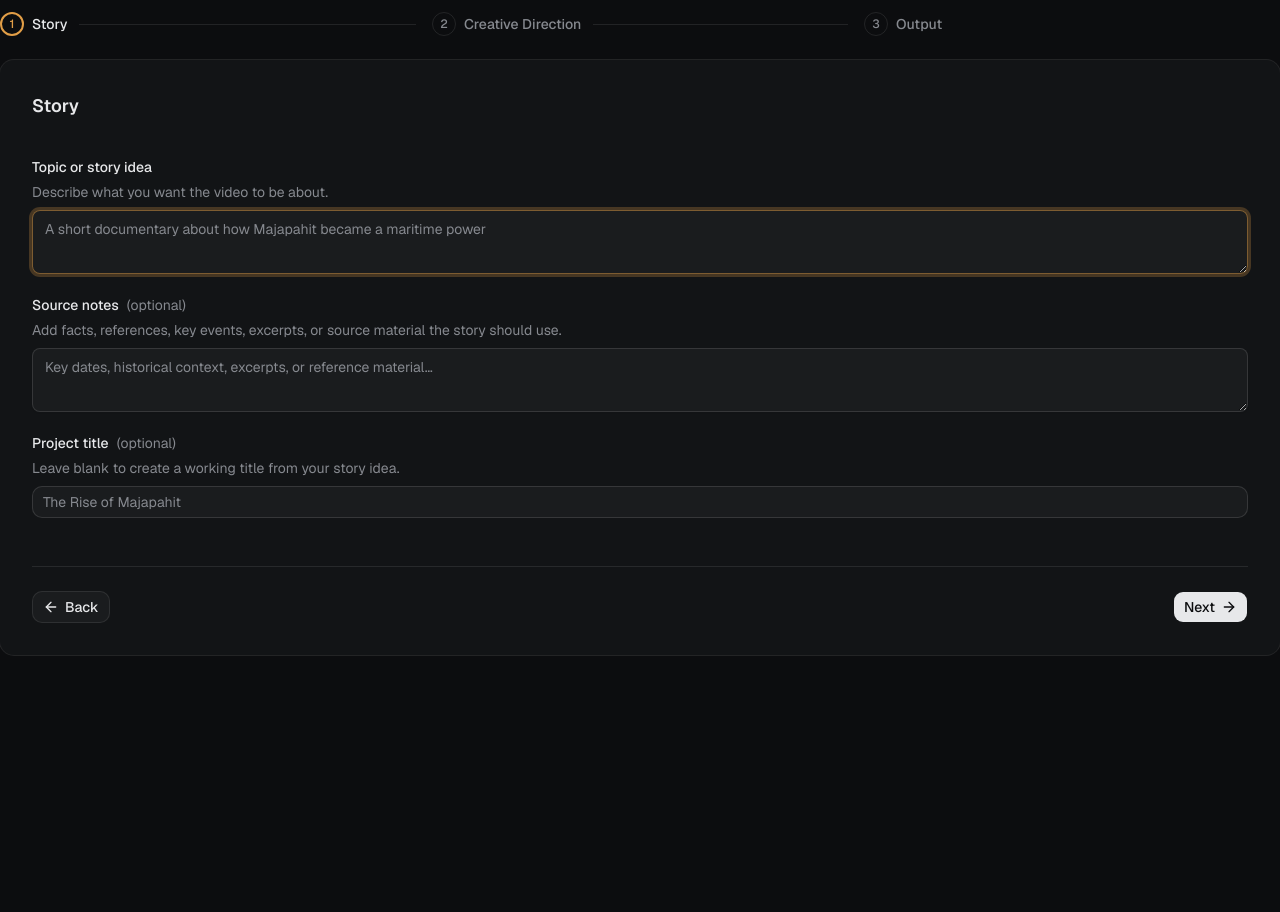
Test case: Historical VideoWizard › offers Historical audience presets and reveals Custom on demand
In the text box labelled "Topic or story idea": {"x": 640, "y": 242} [32, 210, 1248, 274], type "A documentary about Majapahit maritime power"
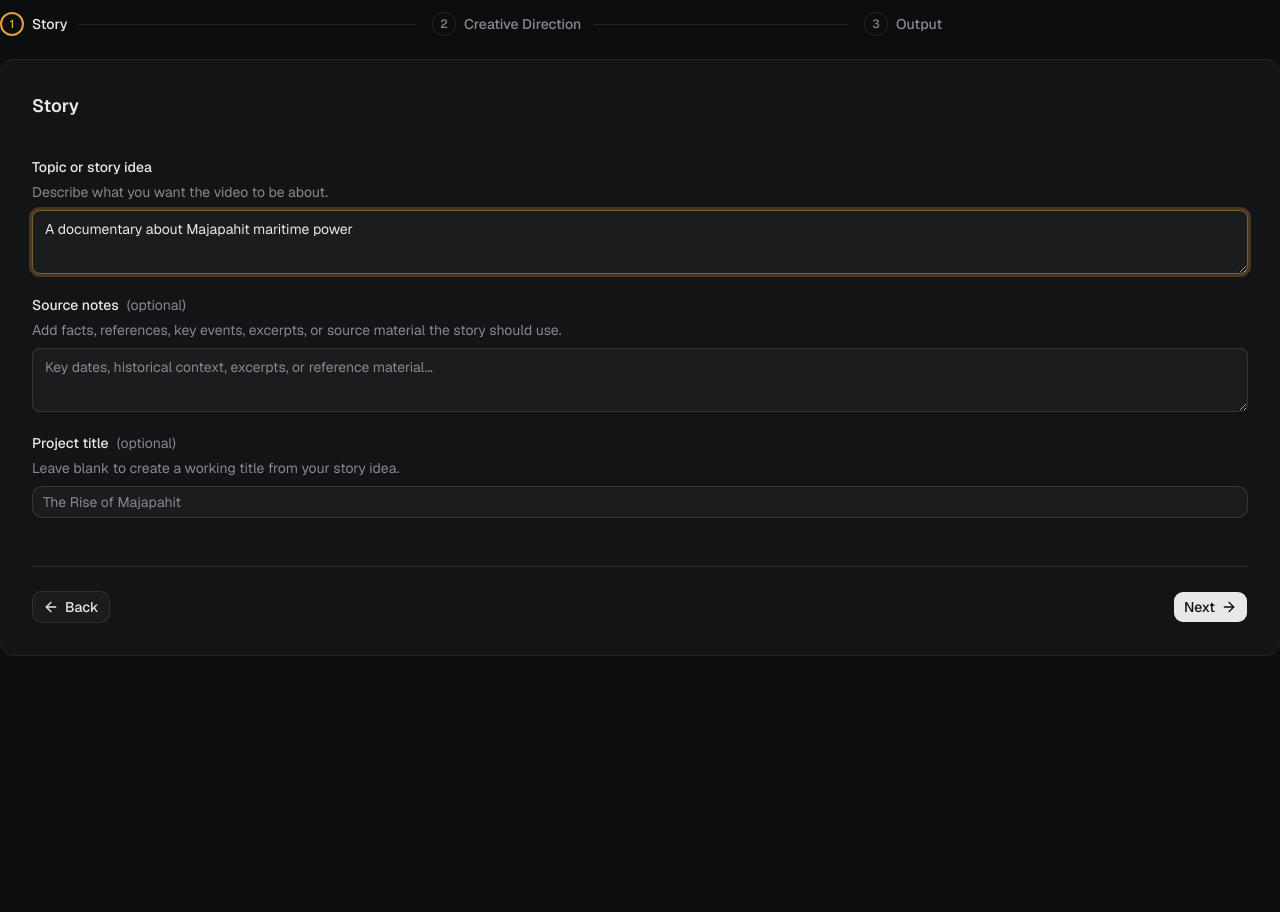
In the text box labelled "Source notes (optional)": {"x": 640, "y": 380} [32, 348, 1248, 412], type "A dated source excerpt."
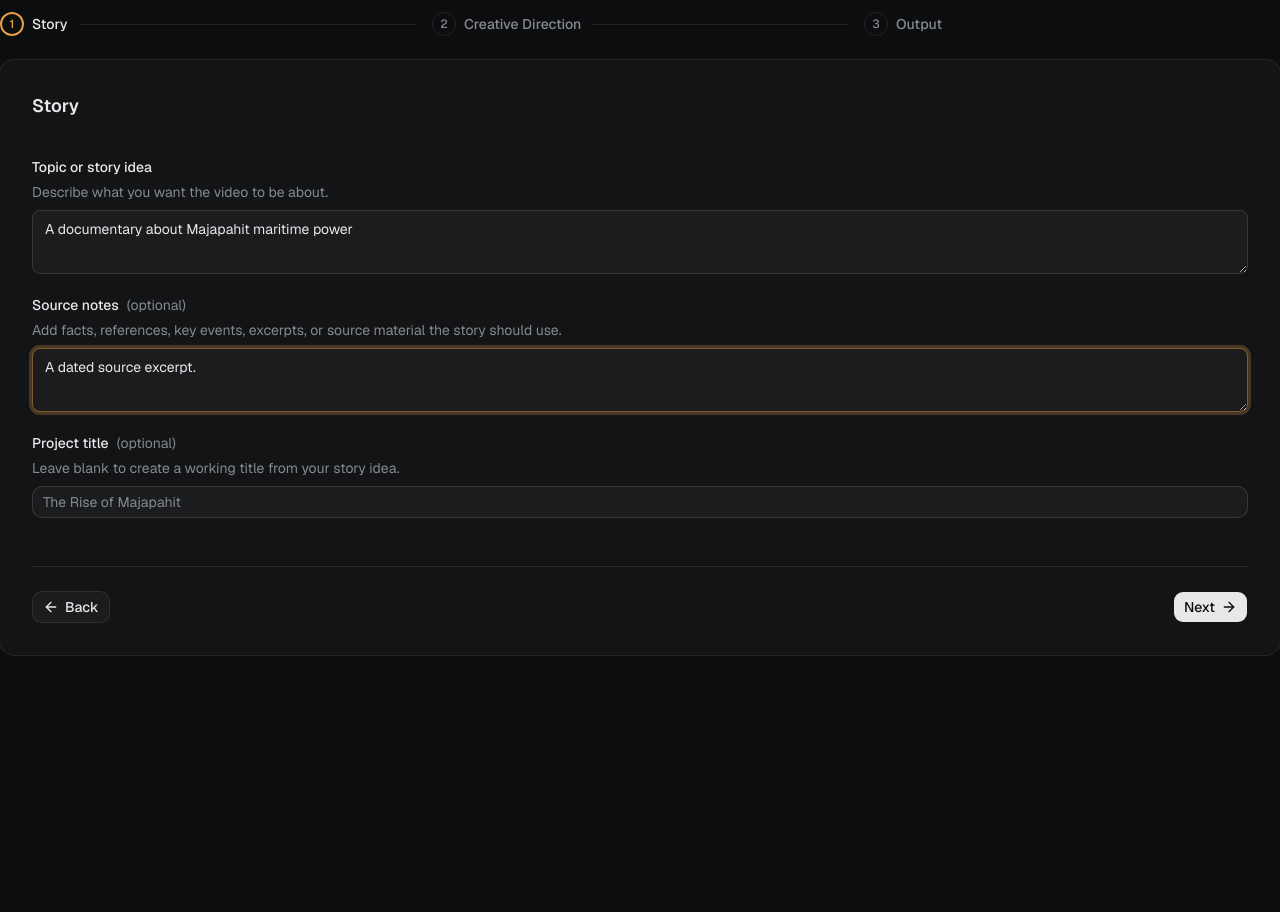
Click the button "Next": {"x": 1210, "y": 607} [1173, 591, 1248, 623]
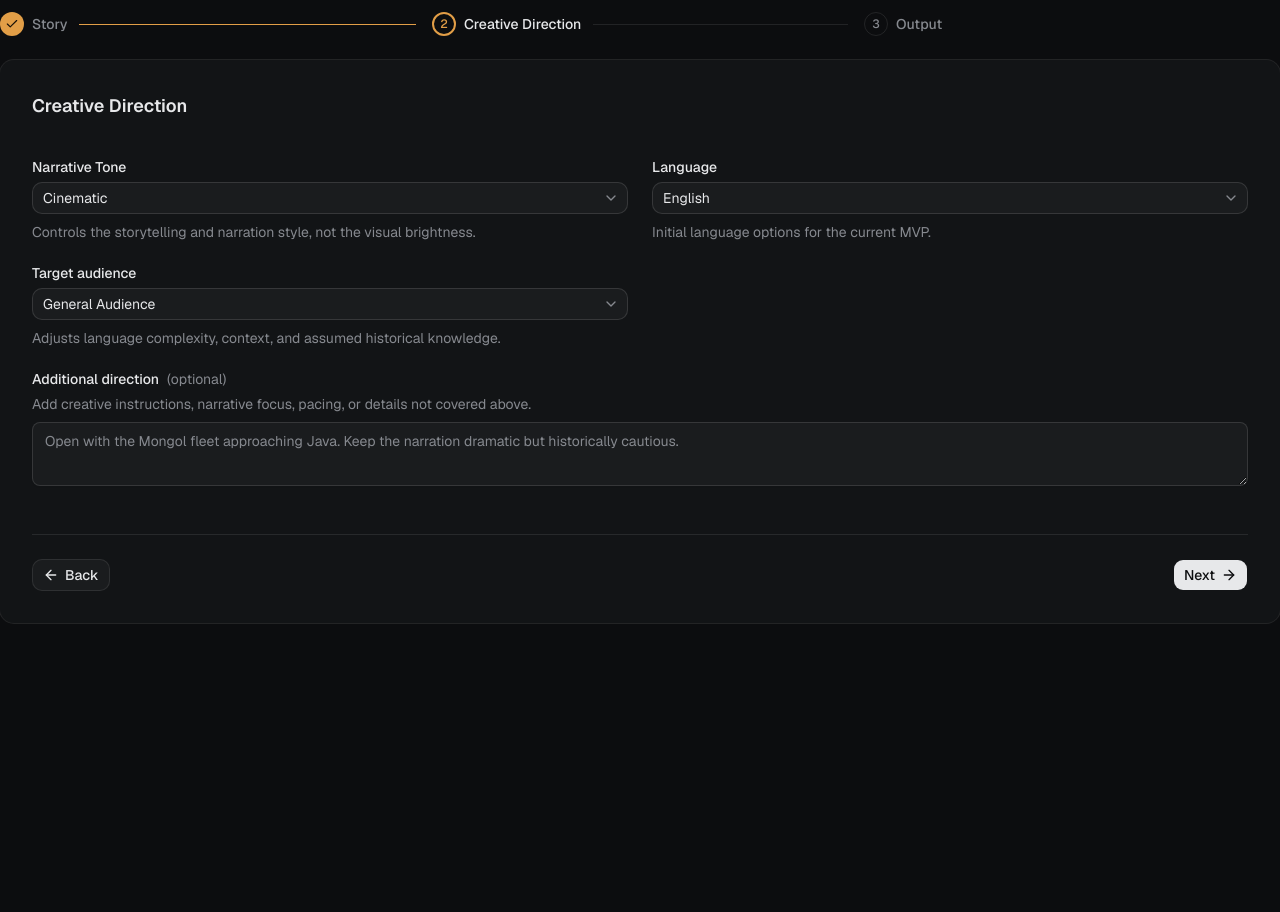
Expected: the field labelled "Describe the audience" is not shown
Expected: the dropdown named "Target audience" reads "General Audience"
Expected: the text "Adjusts language complexity, context, and assumed historical knowledge." is shown, [32, 329, 501, 347]
Click the dropdown named "Target audience": {"x": 99, "y": 304} [32, 288, 628, 320]
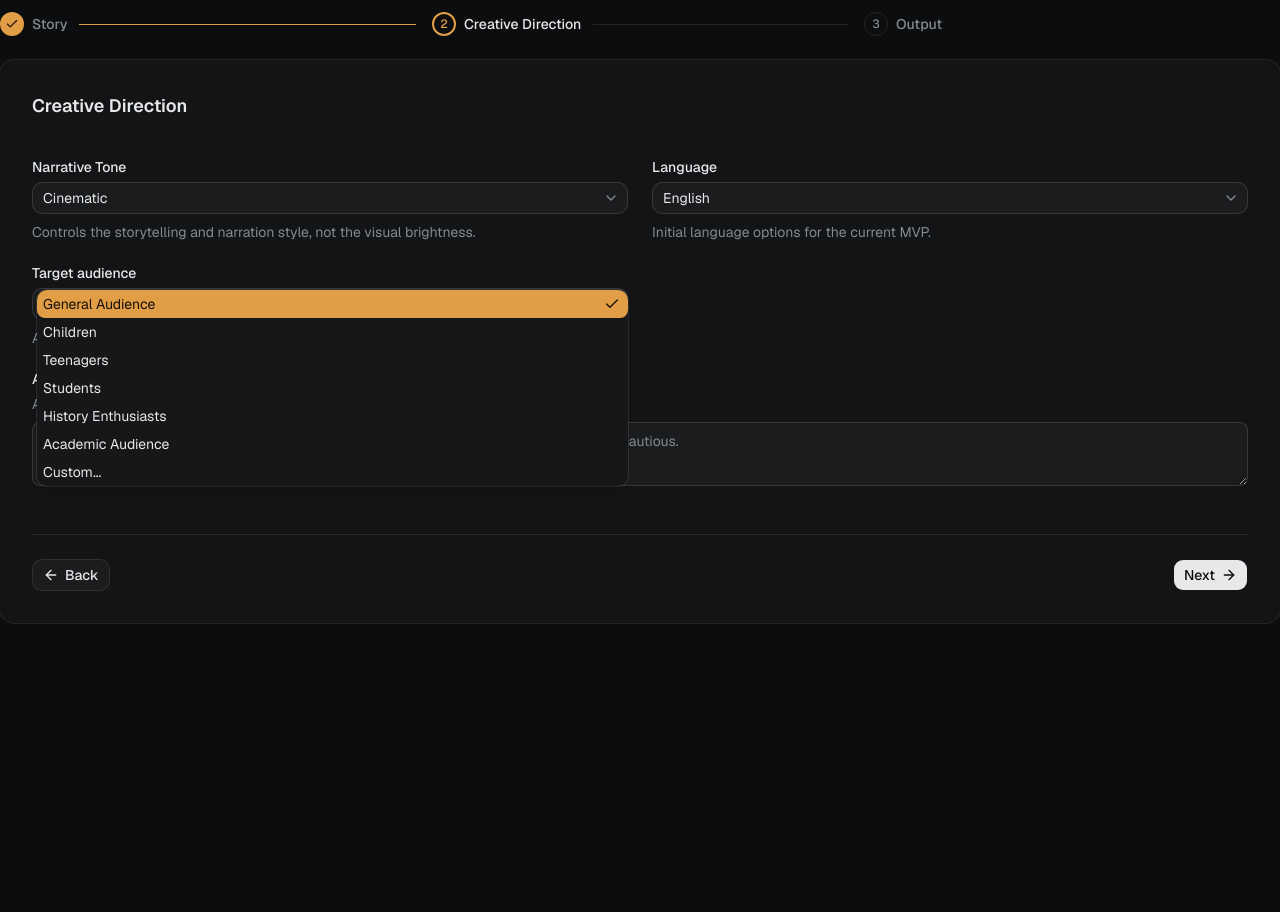
Click the option "Custom...": {"x": 72, "y": 472} [43, 463, 101, 481]
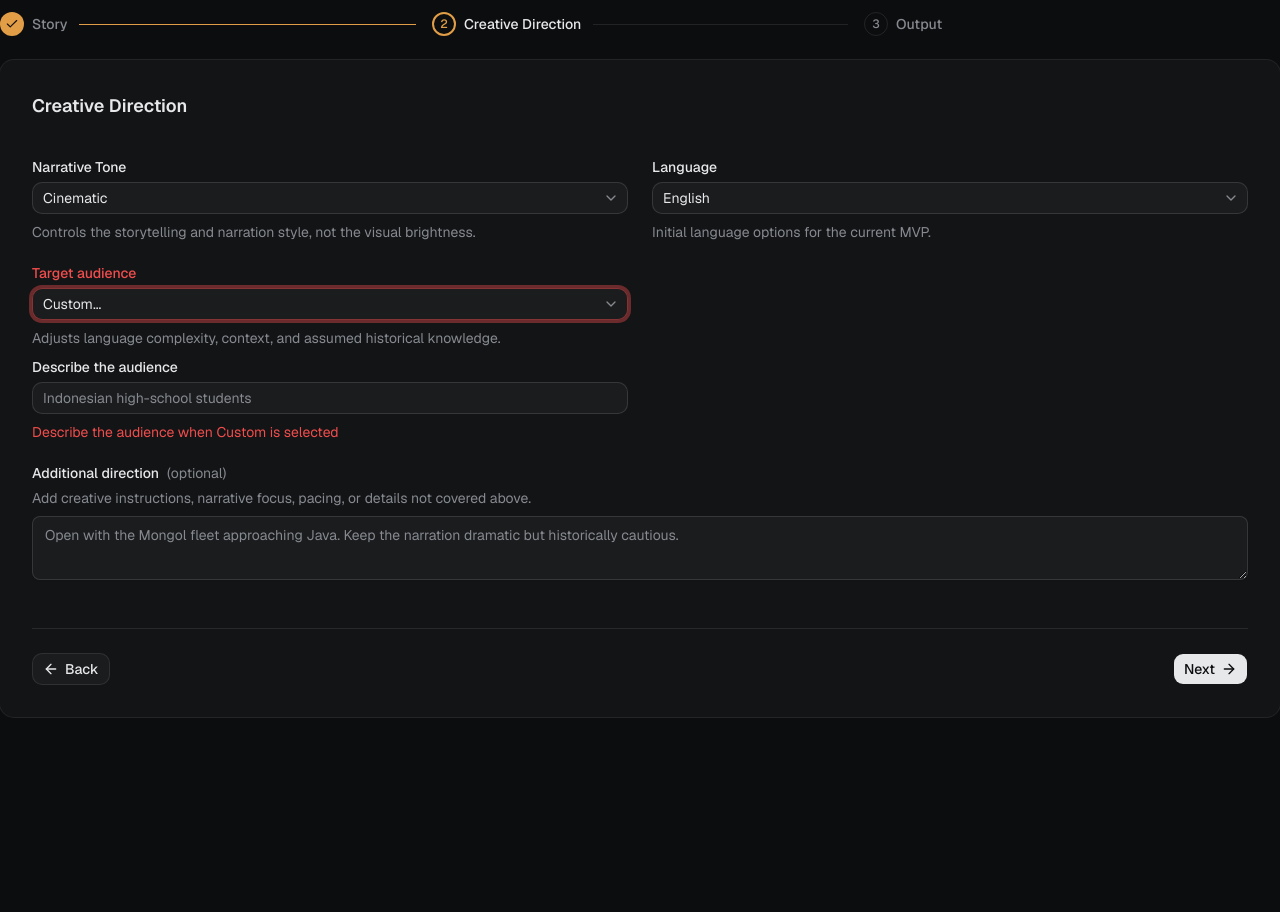
Expected: the field labelled "Describe the audience" is shown, [32, 382, 628, 414]
